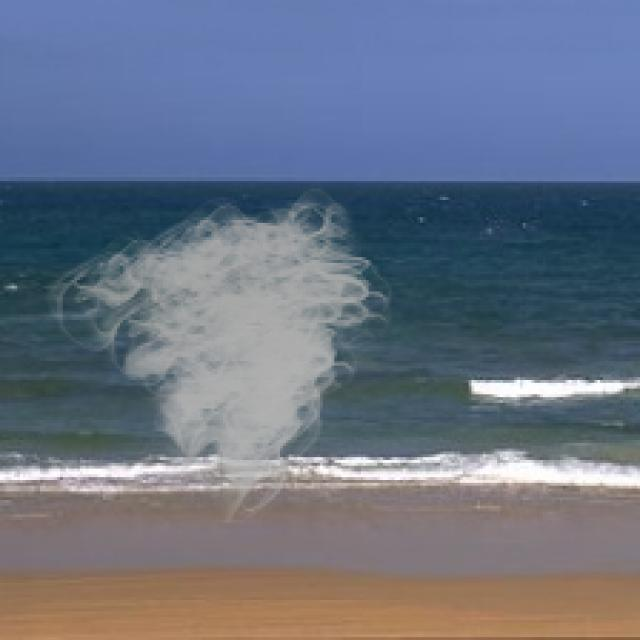smoke: (43, 180, 403, 523)
